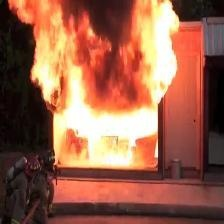fire: (6, 0, 204, 182)
